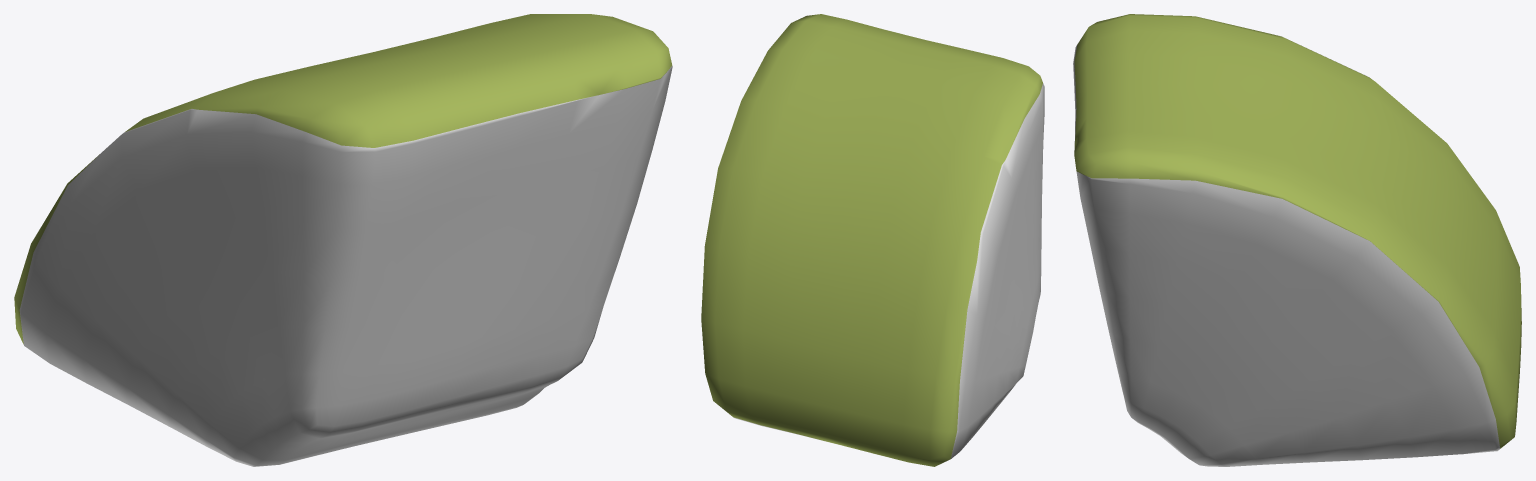
The model's file is RAW_radish.fbx.
The picture shows the model from 3 angles, left to right: view 1: azimuth 30°, elevation 25°; view 2: azimuth 150°, elevation 25°; view 3: azimuth 270°, elevation 25°; orthographic projection. The views are drawn at different scales.
Visible parts, largest first — view 1: RAW_radish; view 2: RAW_radish; view 3: RAW_radish.
Boxes of the visible parts, x1=… form: RAW_radish: x1=14, y1=14, x2=672, y2=466; RAW_radish: x1=701, y1=14, x2=1044, y2=466; RAW_radish: x1=1073, y1=14, x2=1521, y2=466.
Size of the model in its own units: 0.0361 by 0.0307 by 0.0352.
